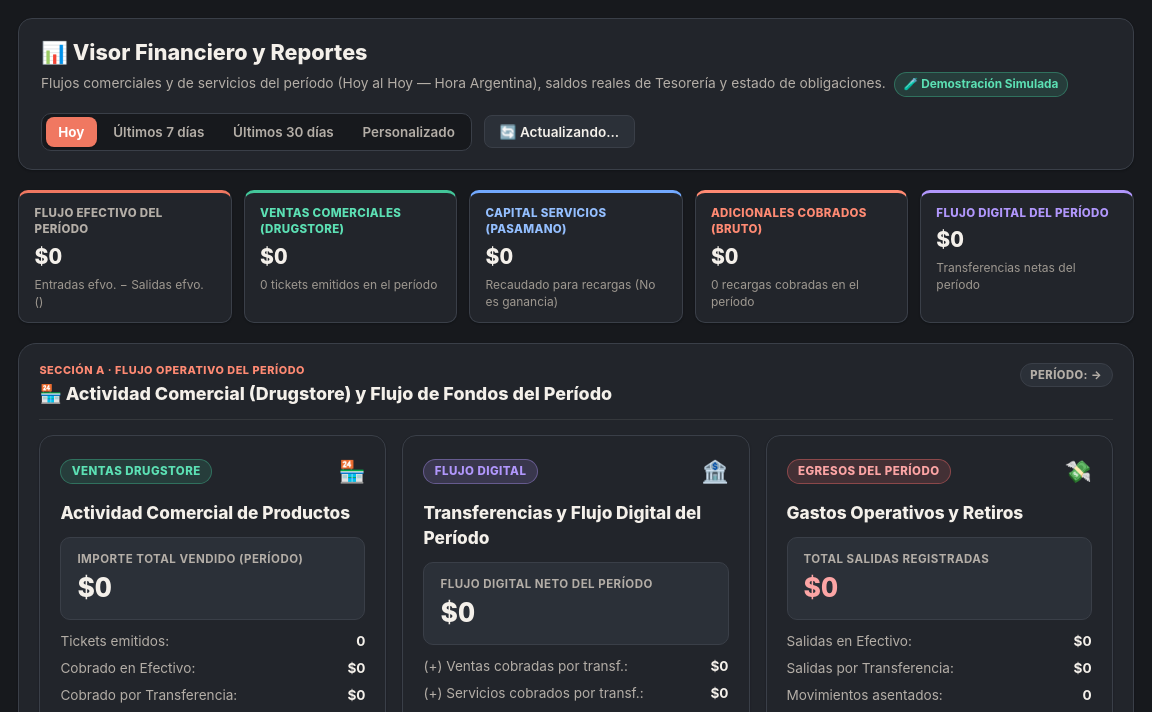
Scenario: GenaroPOS — Módulo de Dashboard Financiero y Visor (Frontend / IndexedDB) › 3. Permite alternar períodos (Hoy, 7 días, 30 días, Personalizado)
Click 7 días
Step 1. Click the button with test id "btn-periodo-7dias" → [159, 132], box x1=100 y1=117 x2=217 y2=146
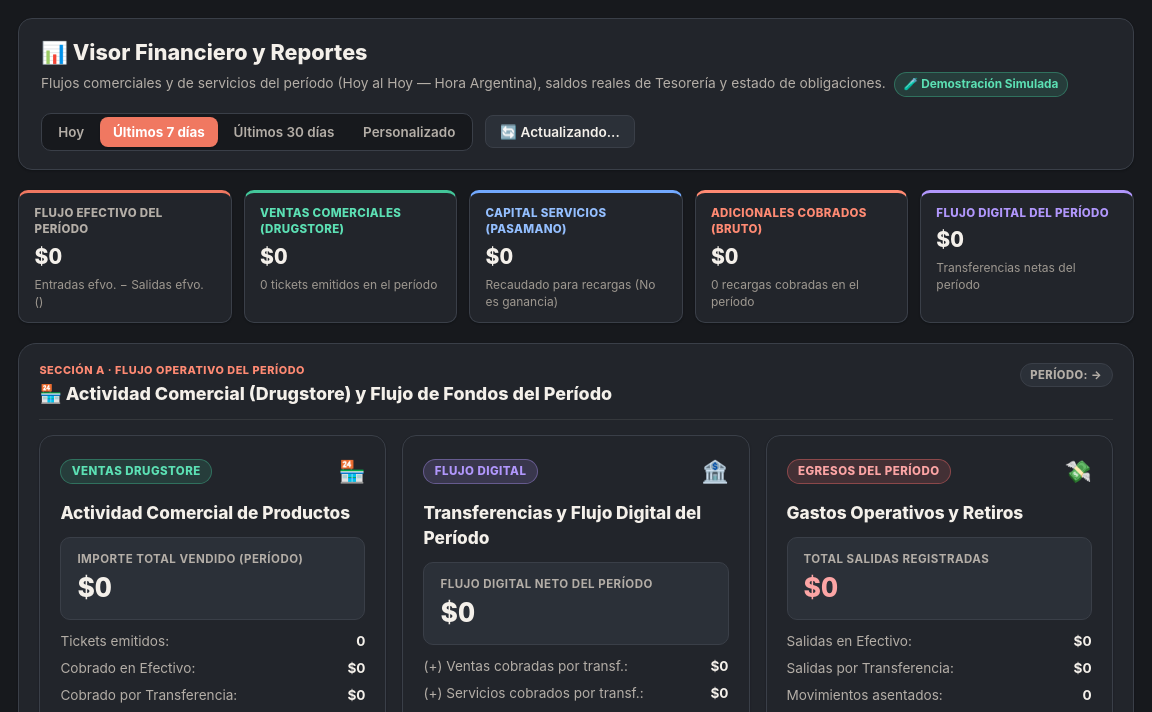
Check: the button with test id "btn-periodo-7dias" has class "active", box x1=100 y1=117 x2=218 y2=146
Click 30 días
Step 2. Click the button with test id "btn-periodo-30dias" → [284, 132], box x1=221 y1=117 x2=347 y2=146
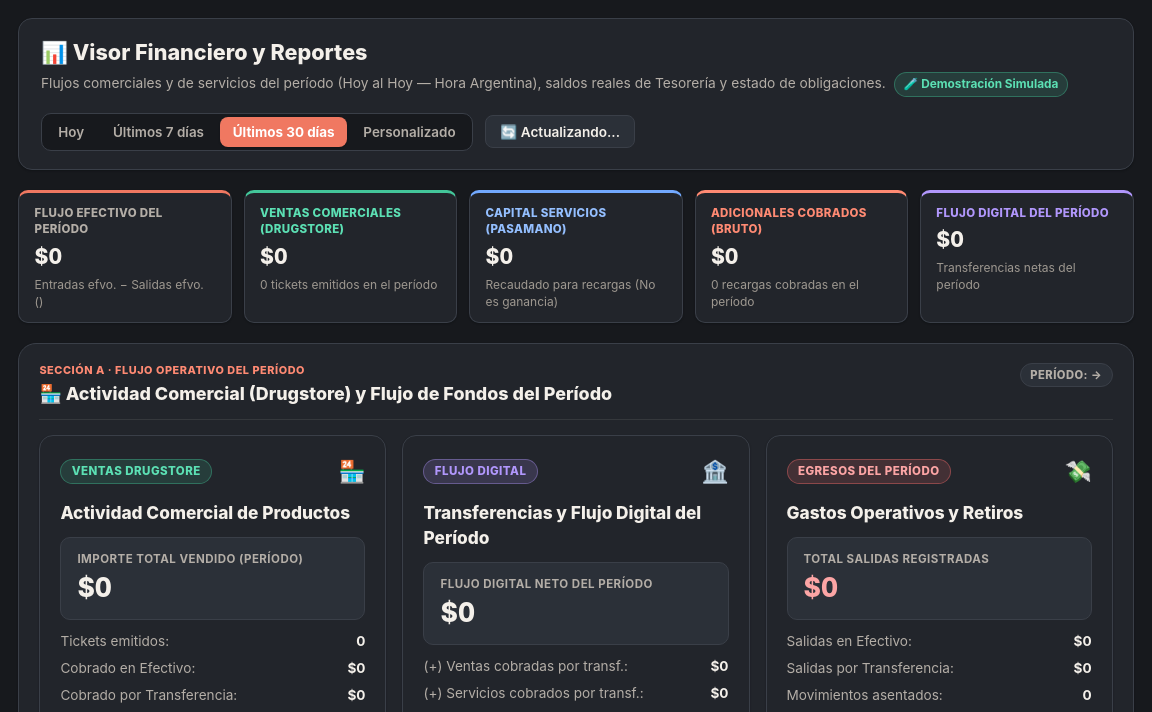
Check: the button with test id "btn-periodo-30dias" has class "active", box x1=220 y1=117 x2=347 y2=146
Click Personalizado abre campos de fecha
Step 3. Click the button with test id "btn-periodo-personalizado" → [410, 132], box x1=351 y1=117 x2=468 y2=146
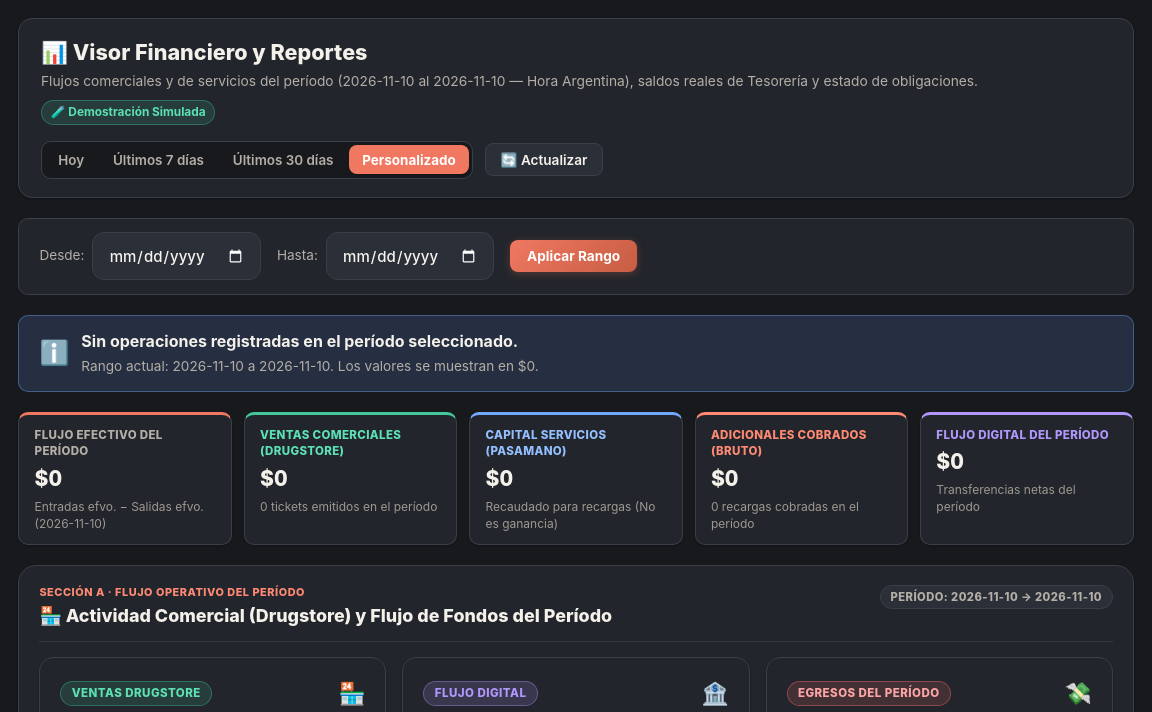
Check: the date field labelled "Desde:" is shown, box x1=92 y1=232 x2=261 y2=280
Check: the date field labelled "Hasta:" is shown, box x1=326 y1=232 x2=494 y2=280
